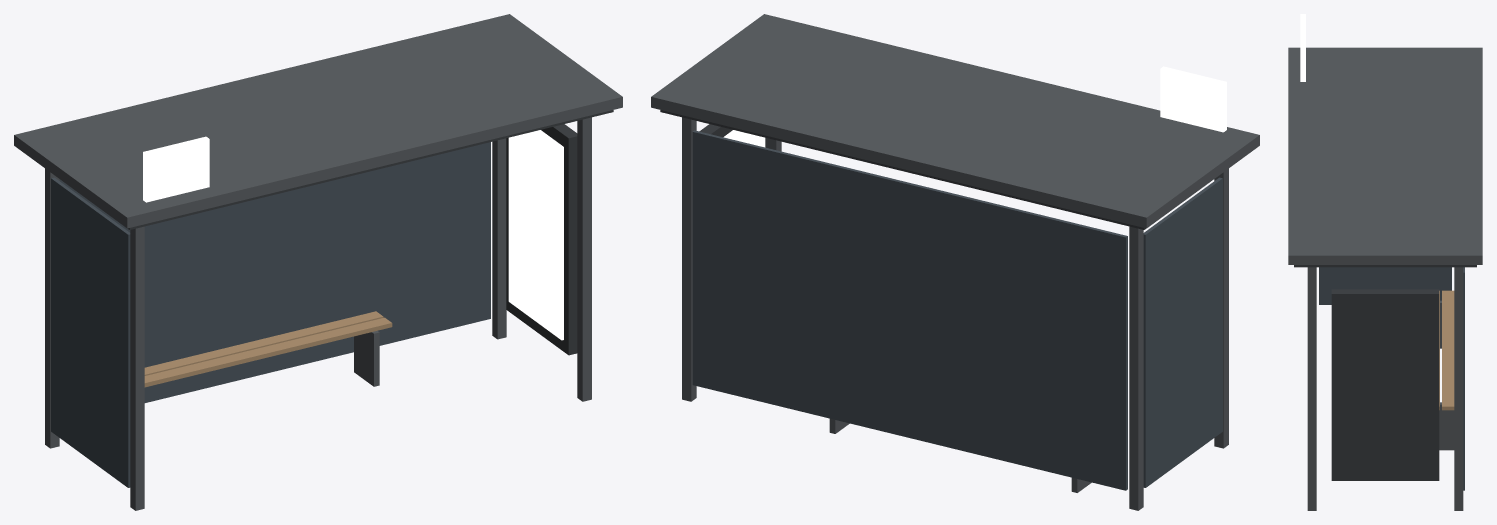
File: bus_stop_shelter.glb
The picture shows the model from 3 angles, left to right: view 1: azimuth 30°, elevation 25°; view 2: azimuth 150°, elevation 25°; view 3: azimuth 270°, elevation 25°; orthographic projection. The views are drawn at different scales.
Parts seen in each view (by area): view 1: bus_stop_shelter; view 2: bus_stop_shelter; view 3: bus_stop_shelter.
Part boxes in pixels (x1,y1,x2,y2): bus_stop_shelter: (14, 14, 622, 510); bus_stop_shelter: (651, 14, 1259, 510); bus_stop_shelter: (1288, 14, 1482, 510).
Size of the model in its own units: 4.3 by 2.97 by 1.7.
